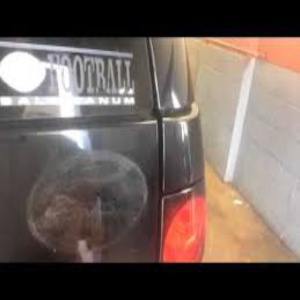bumper_scratch: (18, 144, 155, 254)
